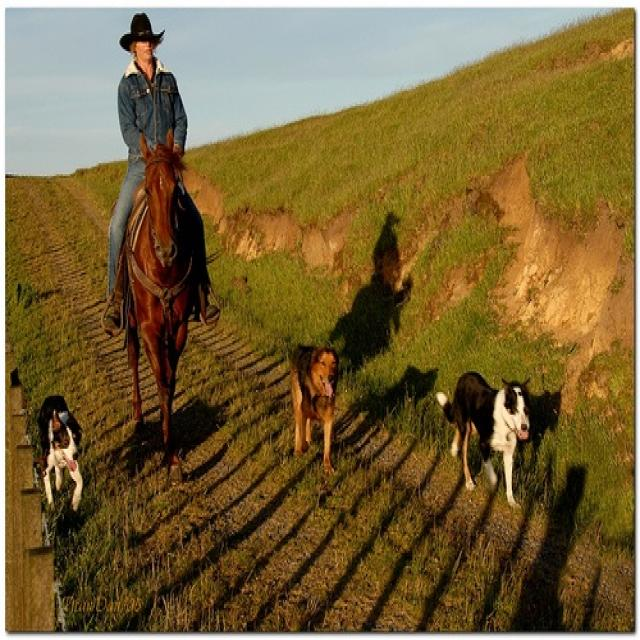dog: (431, 367, 535, 513), (286, 336, 344, 474), (33, 388, 87, 523)
horse: (119, 121, 213, 470)
